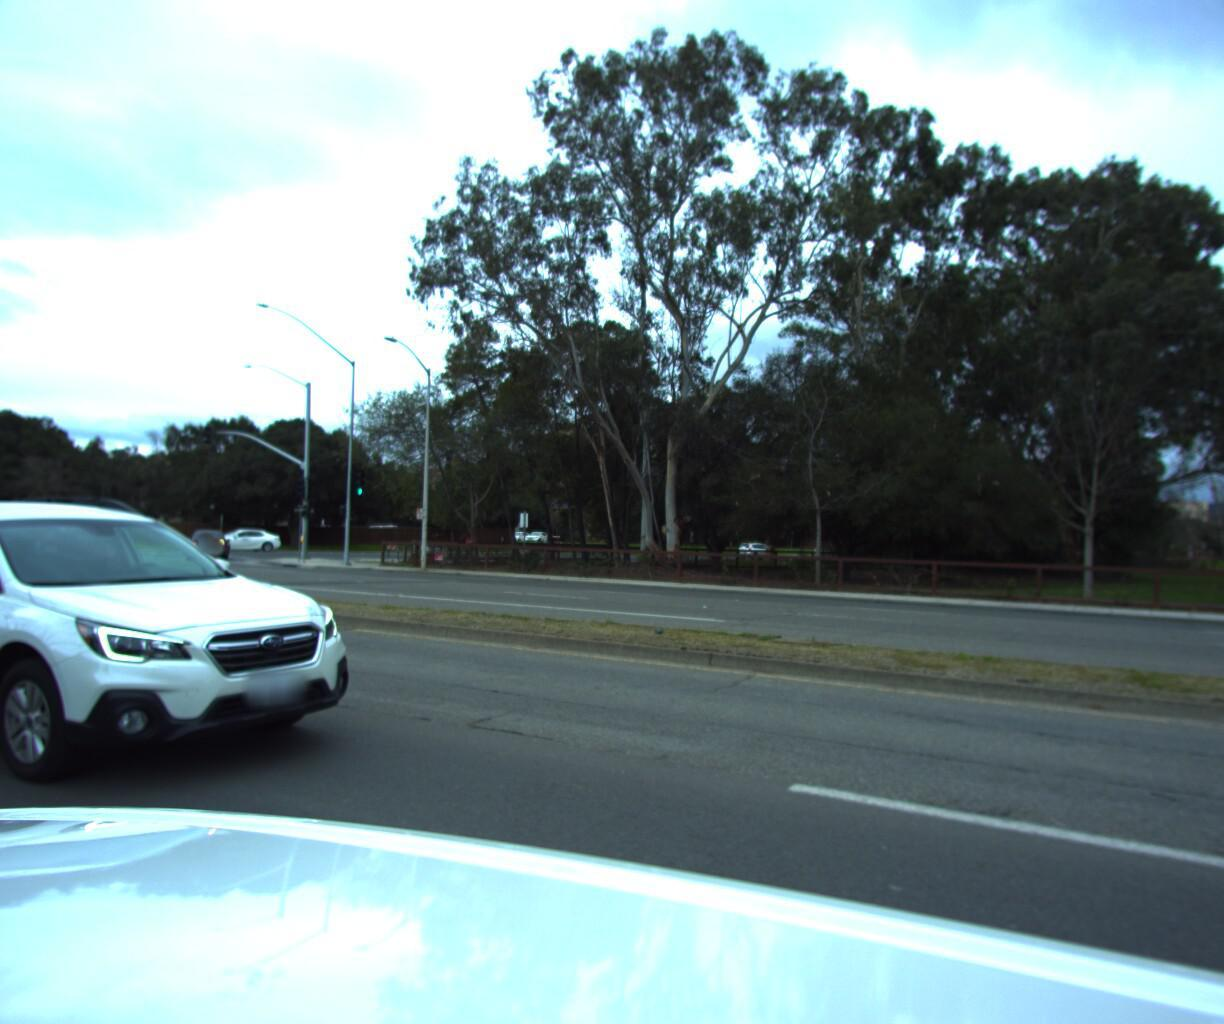car: (0, 485, 397, 836), (194, 522, 283, 547), (182, 522, 235, 555)
